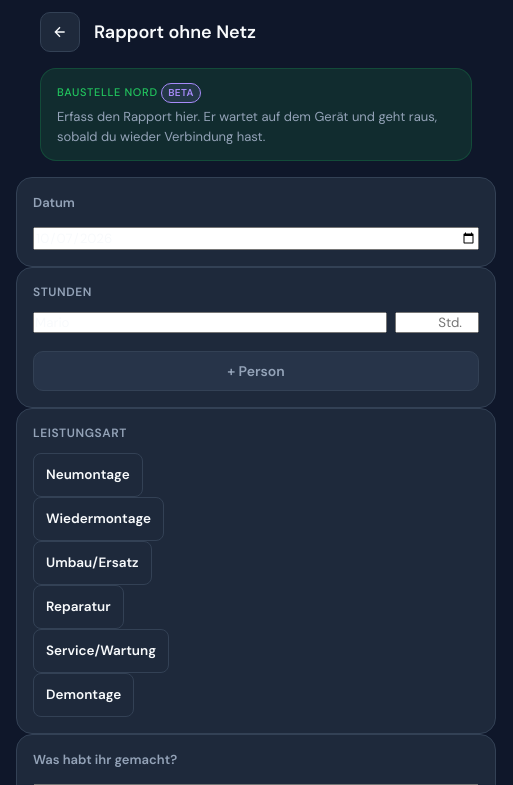
Scenario: Formular › nimmt weitere Personen auf
The image size is (513, 785).
What coordinates should you click on to do the following:
click the button "+ Person"
I would click on:
 (256, 371)
Its box is left=33, top=351, right=479, bottom=391.
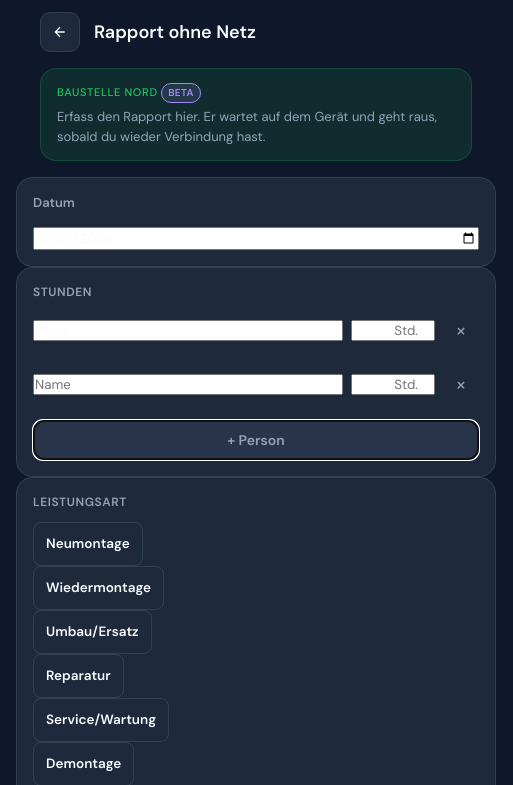
Now the field named "Name Zeile 2" is shown, box left=33, top=374, right=343, bottom=394
